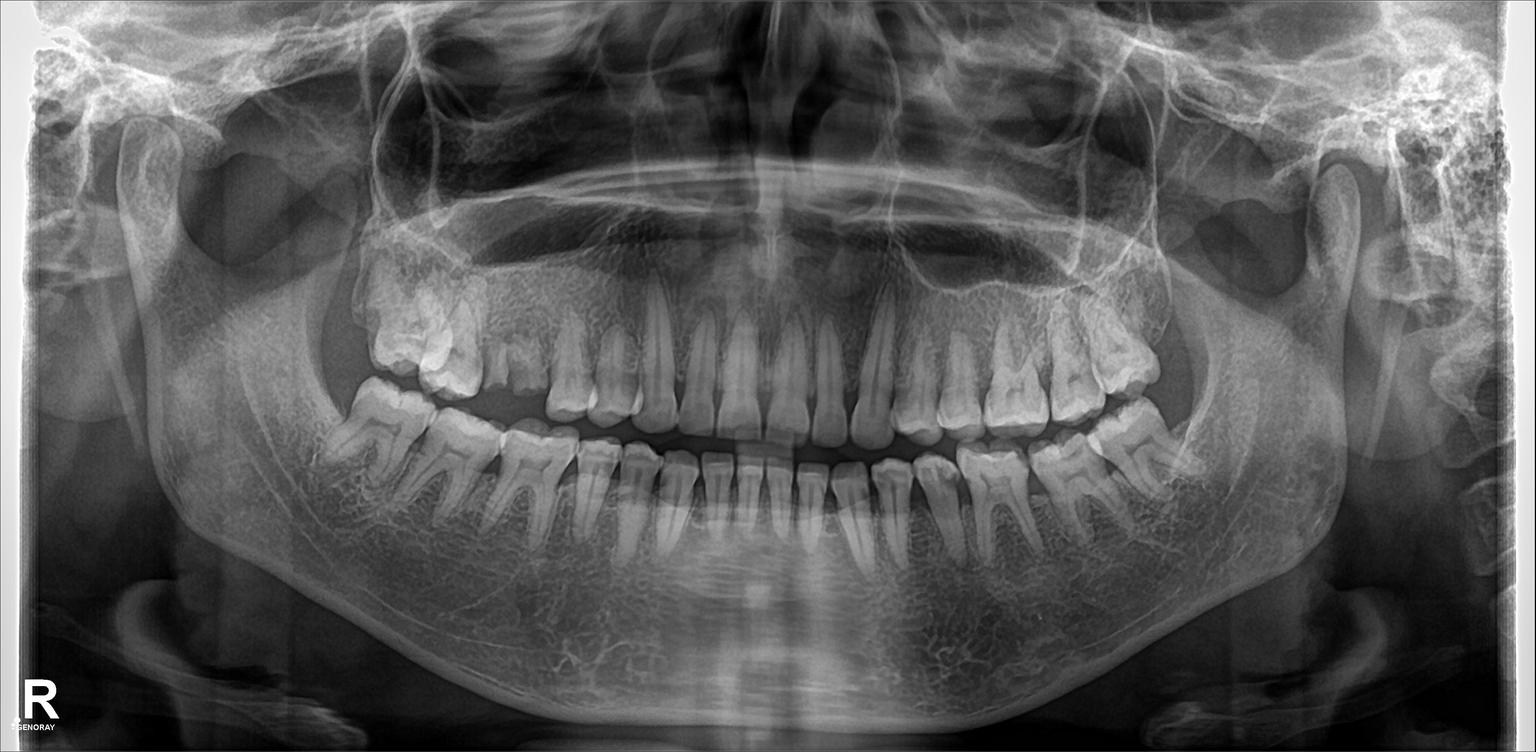Missing Tooth: (1132, 270, 1190, 381), (335, 251, 377, 347), (326, 359, 356, 432)
Tooth Fracture: (507, 329, 544, 395), (480, 329, 511, 402)
